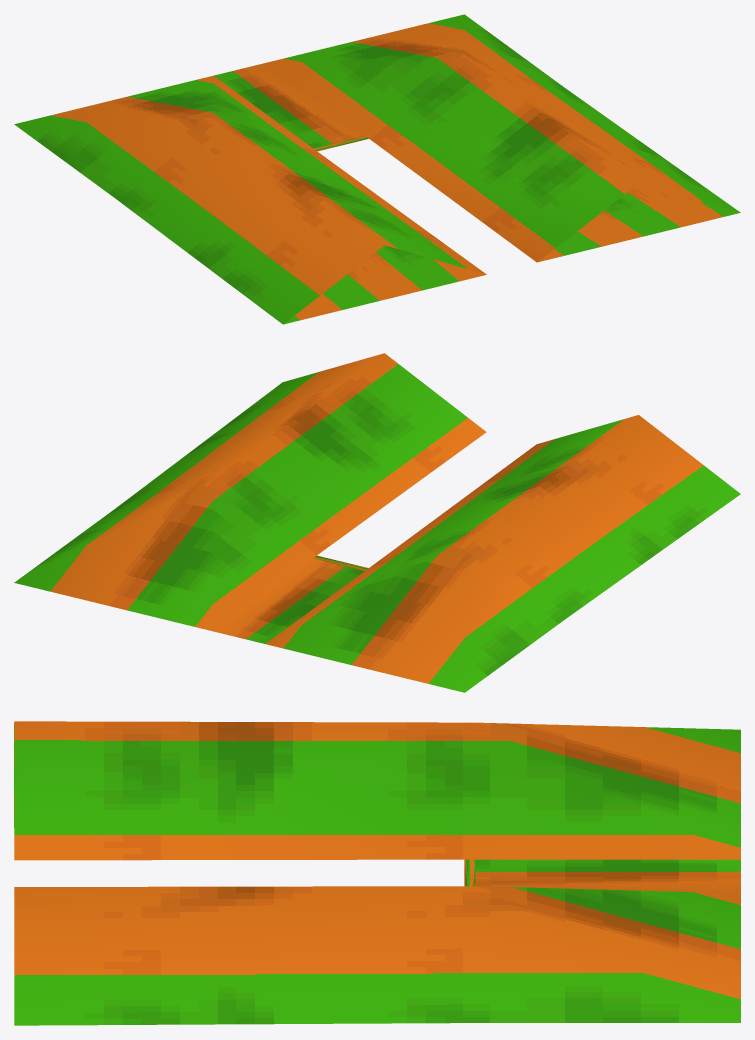
The model's file is 2104pants000_c.gltf.
3 views of the same model, one above another, from view 1: azimuth 30°, elevation 25°; view 2: azimuth 150°, elevation 25°; view 3: azimuth 270°, elevation 25° (orthographic). The views are drawn at different scales.
Visible parts, largest first — view 1: 2104pants000_c; view 2: 2104pants000_c; view 3: 2104pants000_c.
Boxes of the visible parts, bbox=[...] form: 2104pants000_c: bbox=[14, 14, 740, 324]; 2104pants000_c: bbox=[14, 353, 740, 692]; 2104pants000_c: bbox=[14, 721, 740, 1025].
Size of the model in its own units: 0.7793 by 0.0884 by 0.803.
1 material, 1 textured.
